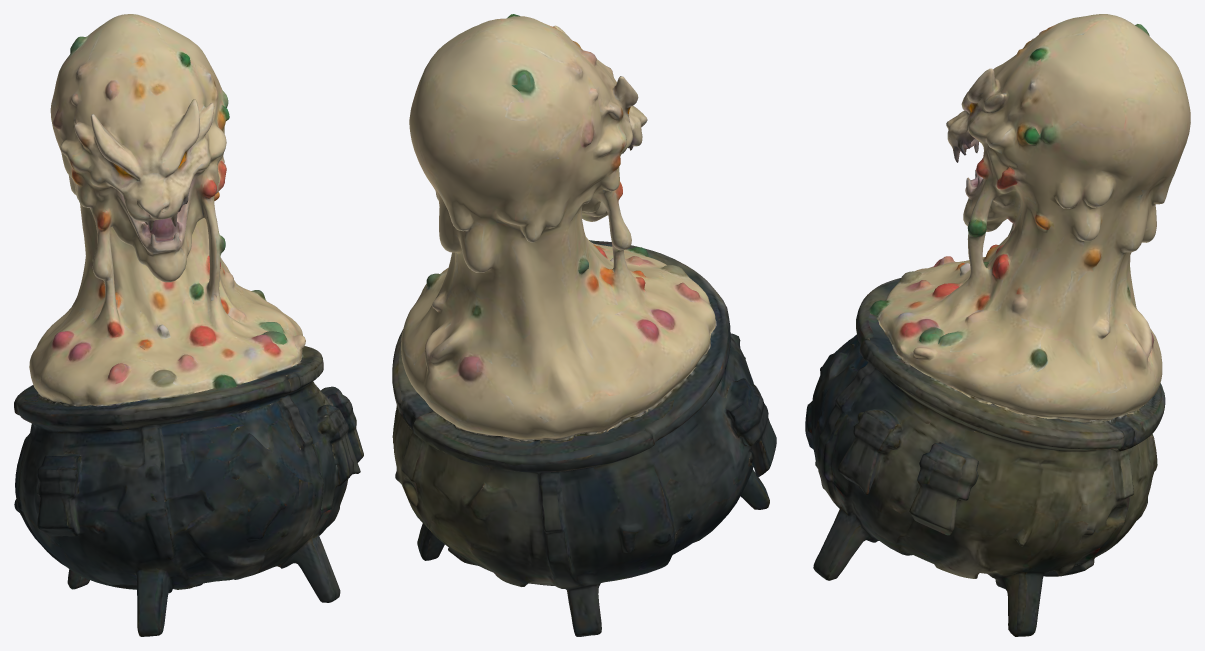
Rendered from agatha_village.glb.
The picture shows the model from 3 angles, left to right: view 1: azimuth 30°, elevation 25°; view 2: azimuth 150°, elevation 25°; view 3: azimuth 270°, elevation 25°; orthographic projection. The views are drawn at different scales.
Size of the model in its own units: 0.5803 by 0.9518 by 0.5819.
Materials: 1 (1 with a texture image).
